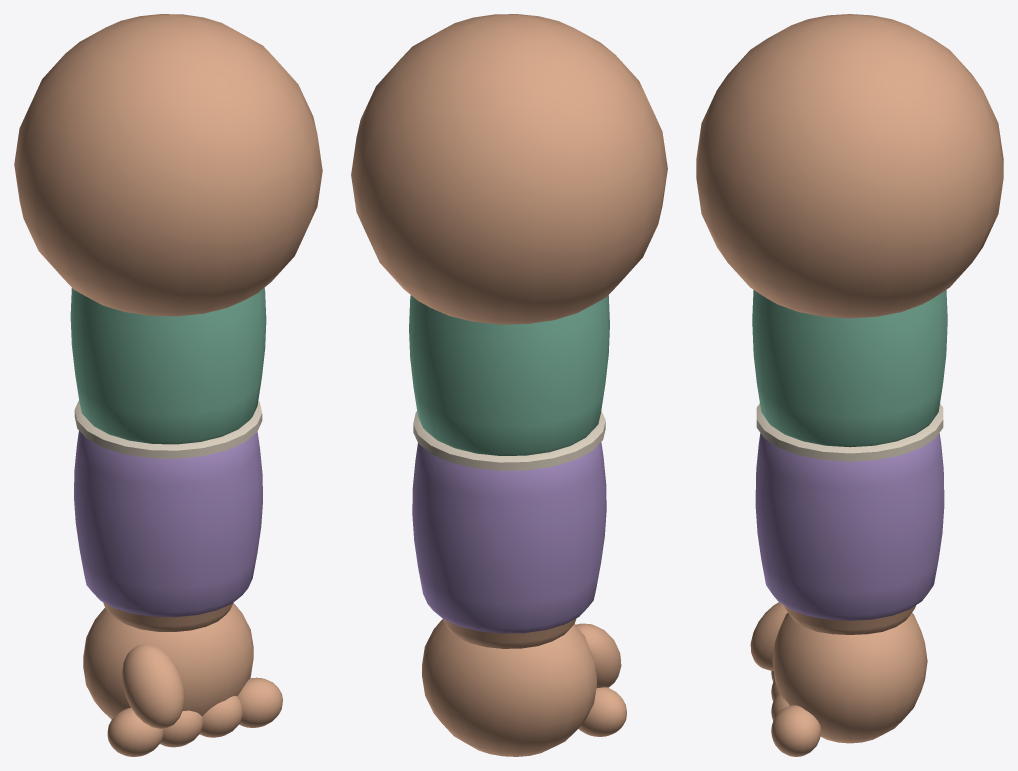
The model's file is Arm_Brute_R.fbx.
3 views of the same model, side by side, from view 1: azimuth 30°, elevation 25°; view 2: azimuth 150°, elevation 25°; view 3: azimuth 270°, elevation 25° (orthographic). The views are drawn at different scales.
Visible parts, largest first — view 1: Arm_Brute_R; view 2: Arm_Brute_R; view 3: Arm_Brute_R.
Part boxes in pixels (x1,y1,x2,y2): Arm_Brute_R: [14, 14, 322, 756]; Arm_Brute_R: [351, 14, 667, 756]; Arm_Brute_R: [696, 14, 1003, 756].
Bounding box in the file's own units: 0.13 × 0.3263 × 0.1287.
